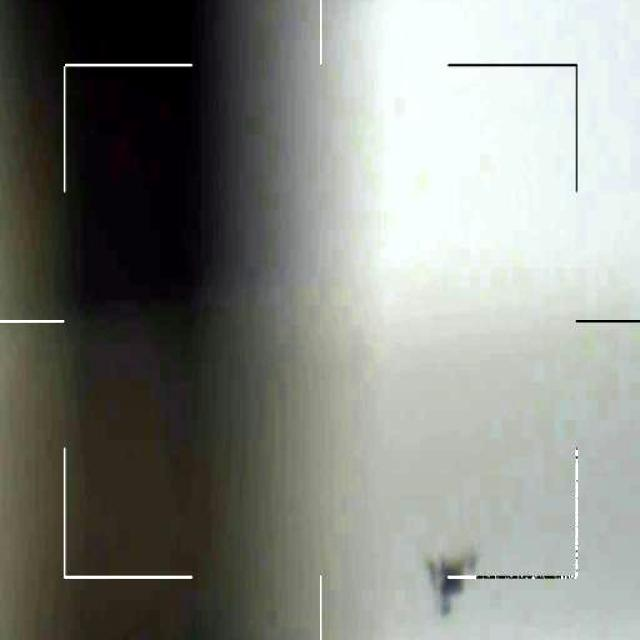bird: (419, 544, 478, 611)
